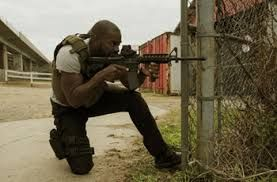gun: (84, 44, 210, 87)
